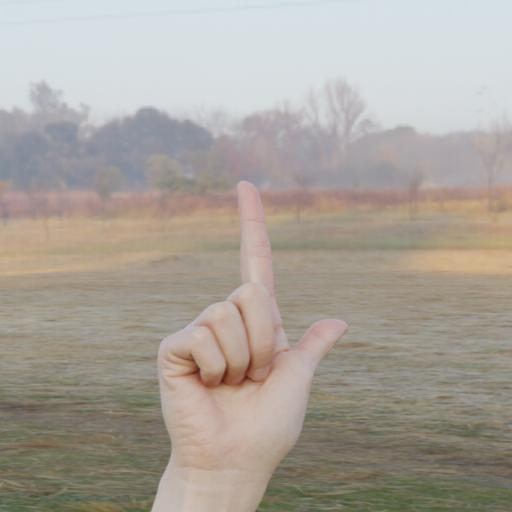L: (145, 174, 357, 472)
